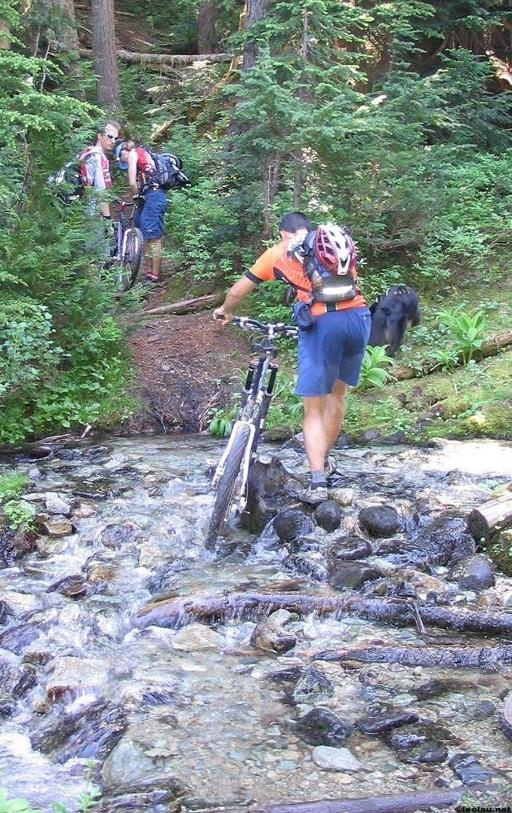non-vehicle: (204, 313, 299, 548), (103, 194, 146, 291)
